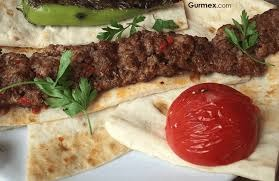kebap: (0, 8, 278, 91), (0, 25, 266, 93), (0, 27, 265, 92)
